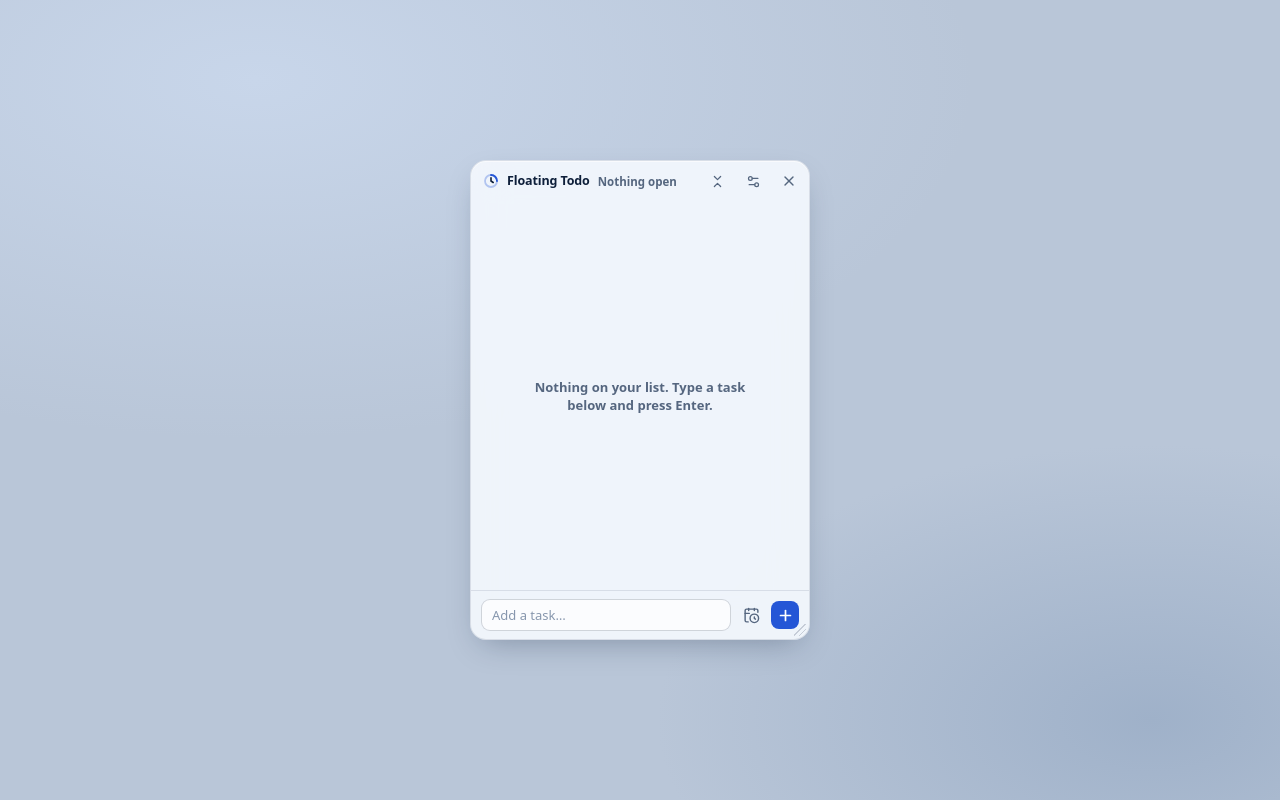
Test: Widget › keeps the text and shows the reason when saving fails
Check: the header is shown, box [471, 161, 809, 201]
Step 1. Type "Important" into the field named "New task title" → (606, 615), box [481, 599, 731, 631]
Then press Enter
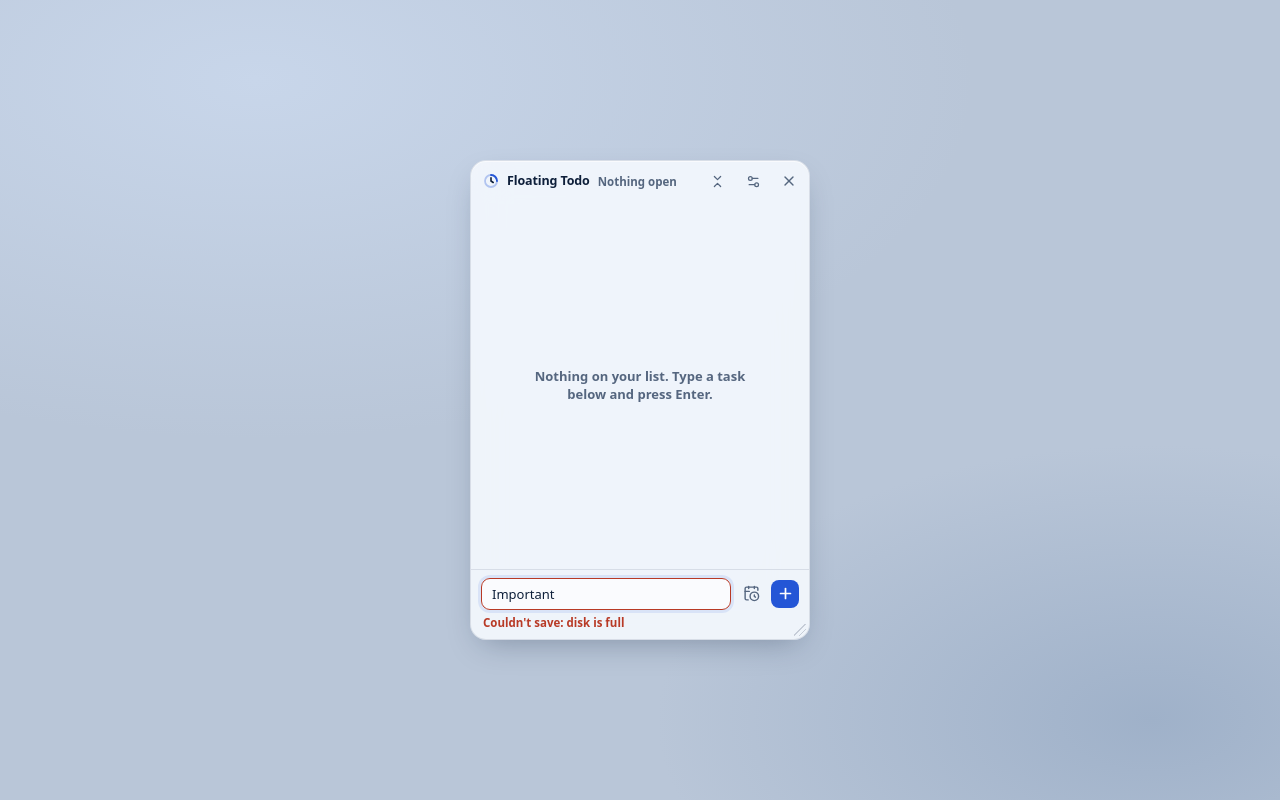
Check: the text "Couldn't save: disk is full" is shown, box [483, 615, 624, 630]
